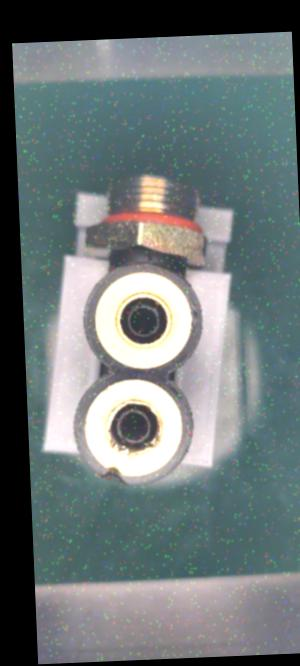bump: (93, 461, 138, 491)
craze: (143, 247, 157, 264)
